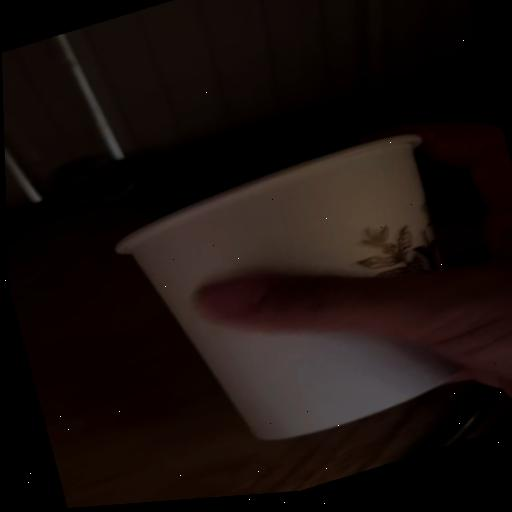Ly_giay: (117, 135, 455, 439)
